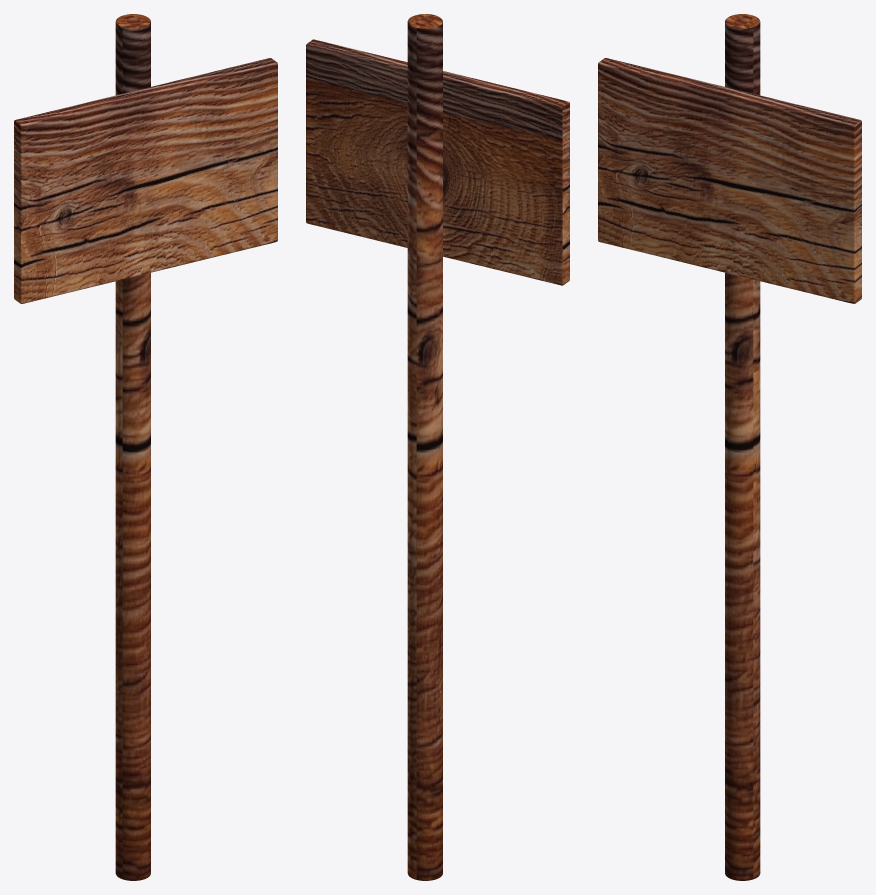
File: Sign.obj
3 renders of one model, left to right at view 1: azimuth 30°, elevation 25°; view 2: azimuth 150°, elevation 25°; view 3: azimuth 330°, elevation 25°, orthographic.
Parts seen in each view (by area): view 1: Sign; view 2: Sign; view 3: Sign.
Part boxes in pixels (left/top/right/bottom): Sign: left=14, top=14, right=277, bottom=880; Sign: left=306, top=14, right=569, bottom=880; Sign: left=598, top=14, right=861, bottom=880.
Size of the model in its own units: 3.76 by 11.91 by 0.6383.
